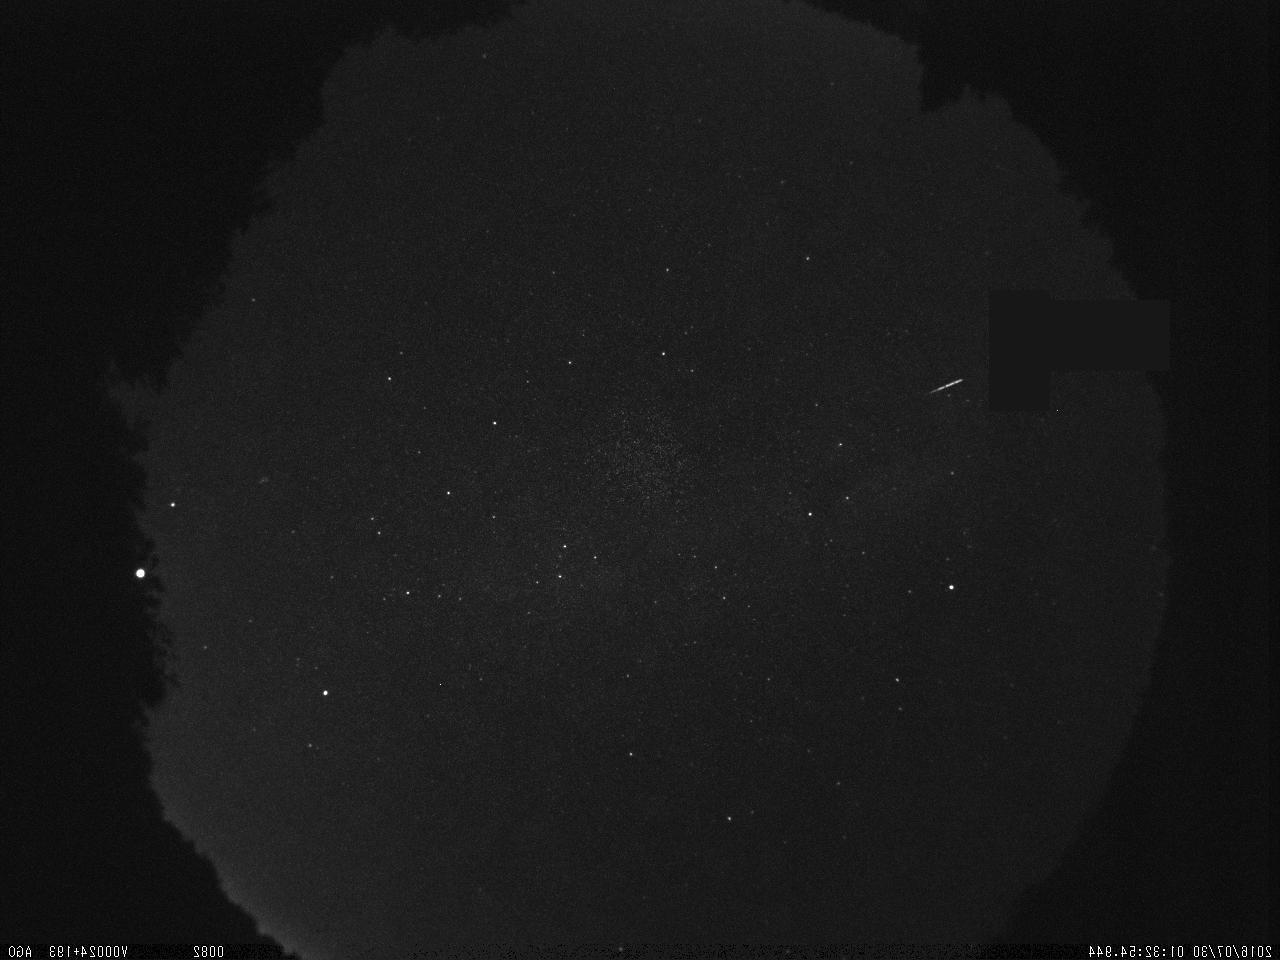meteor: (910, 356, 987, 411)
